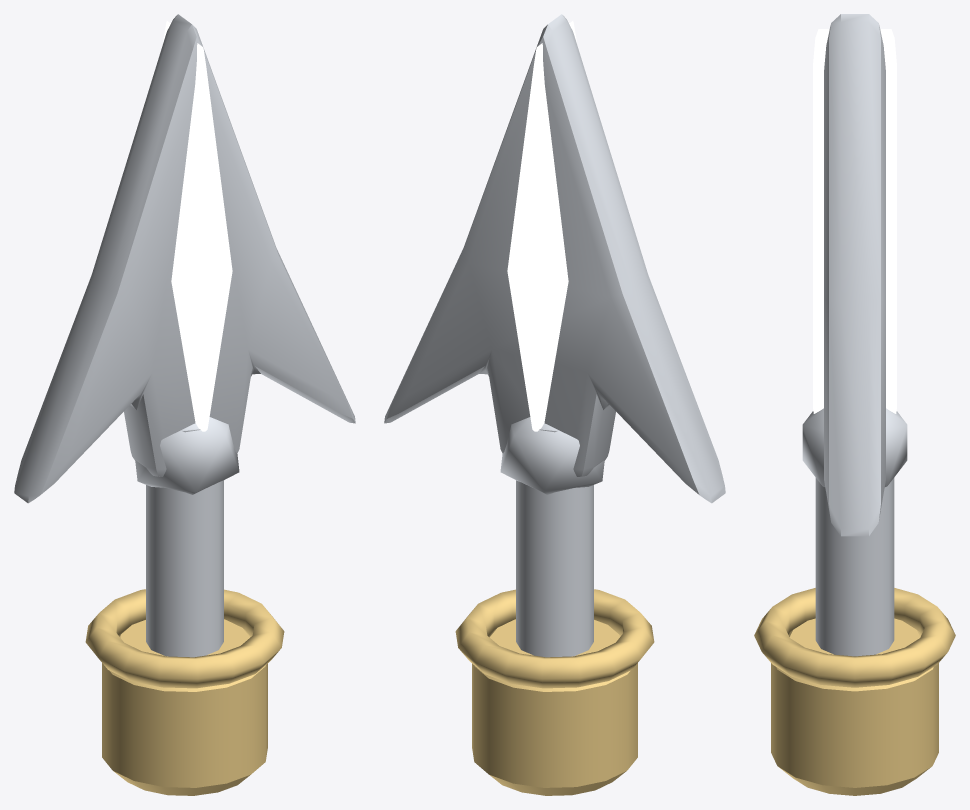
File: wire.glb
3 renders of one model, left to right at view 1: azimuth 30°, elevation 25°; view 2: azimuth 150°, elevation 25°; view 3: azimuth 270°, elevation 25°, orthographic.
Visible parts, largest first — view 1: wire; view 2: wire; view 3: wire.
Boxes of the visible parts, bbox=[...] form: wire: bbox=[14, 14, 355, 795]; wire: bbox=[384, 14, 725, 795]; wire: bbox=[754, 14, 955, 795].
Bounding box in the file's own units: 0.1358 × 0.2967 × 0.072.
